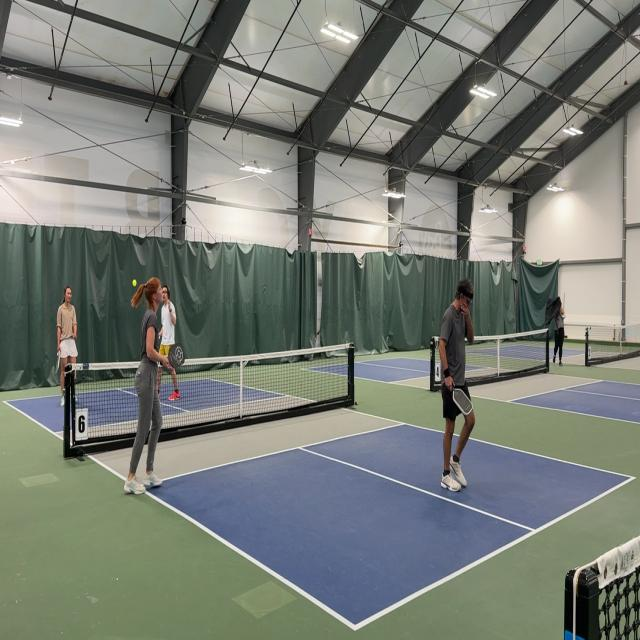ball: (132, 278, 137, 288)
